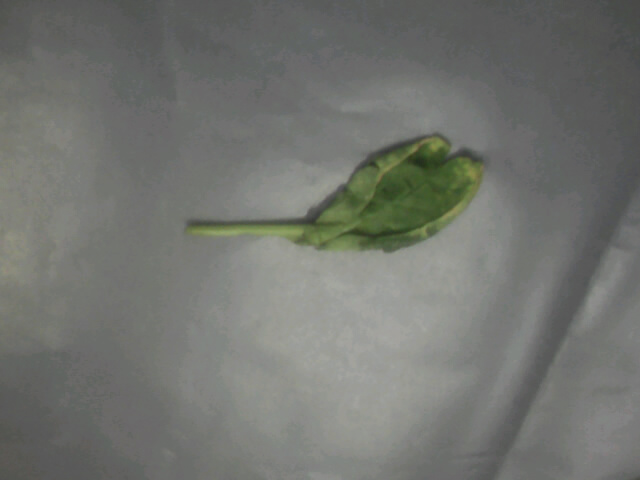yellow: (243, 122, 500, 275)
